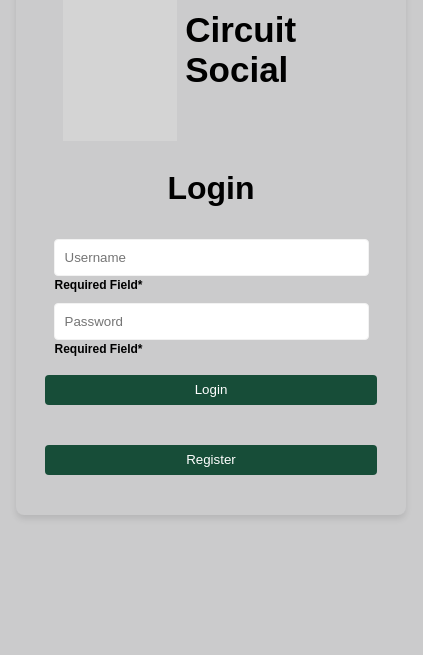
it: LoginForm › Error given when no username is entered when user hits 'login'
The image size is (423, 655).
Click the button "Login". click: point(211, 390)
box: [45,375,377,405]
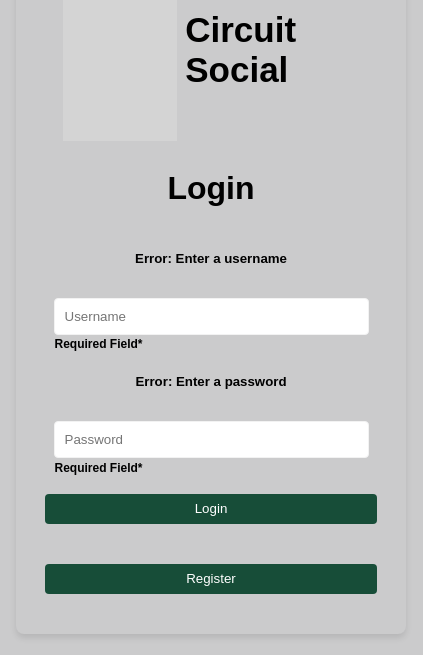
Expected: the heading "Error: Enter a username" is shown, [135,251,287,266]
